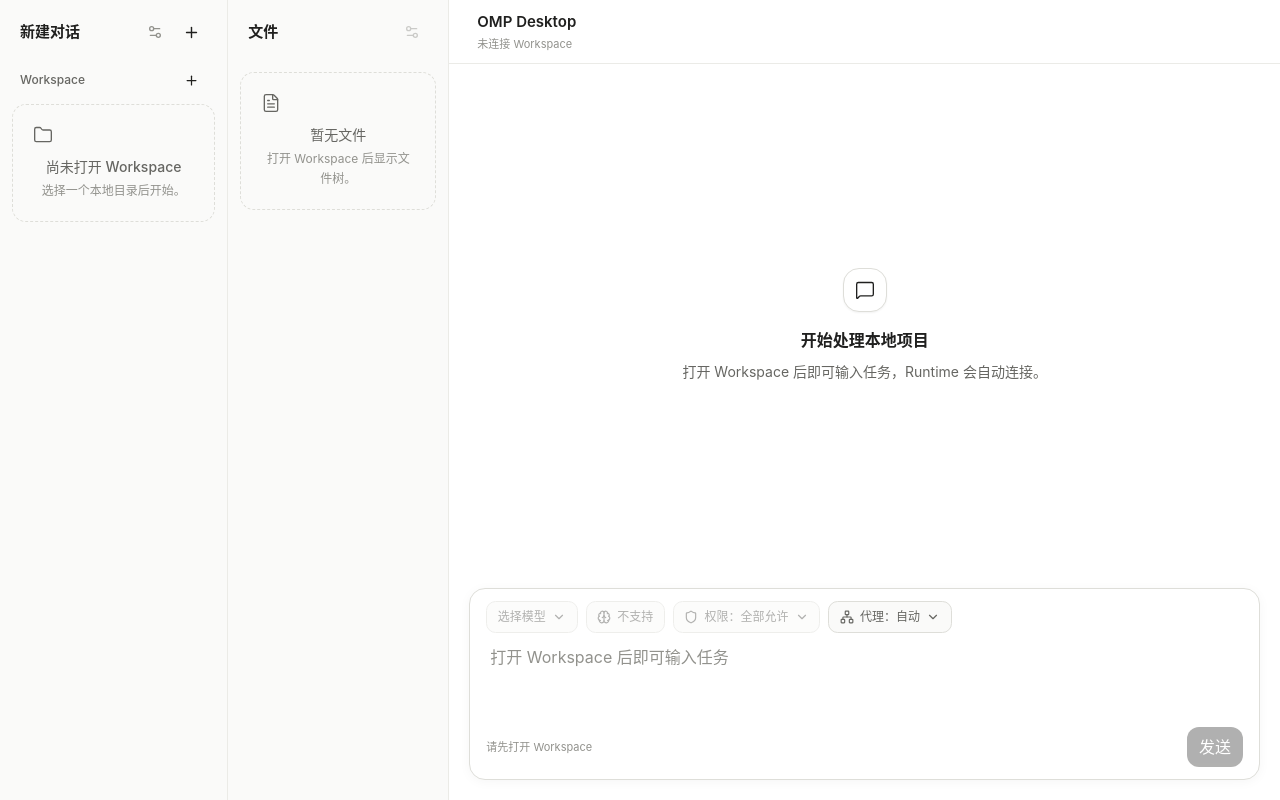
Test: App shell › Runtime 启动完成前先显示新 Workspace
This screenshot has width=1280, height=800.
Click the button named "打开 Workspace".
click(191, 80)  # box [175, 64, 207, 96]
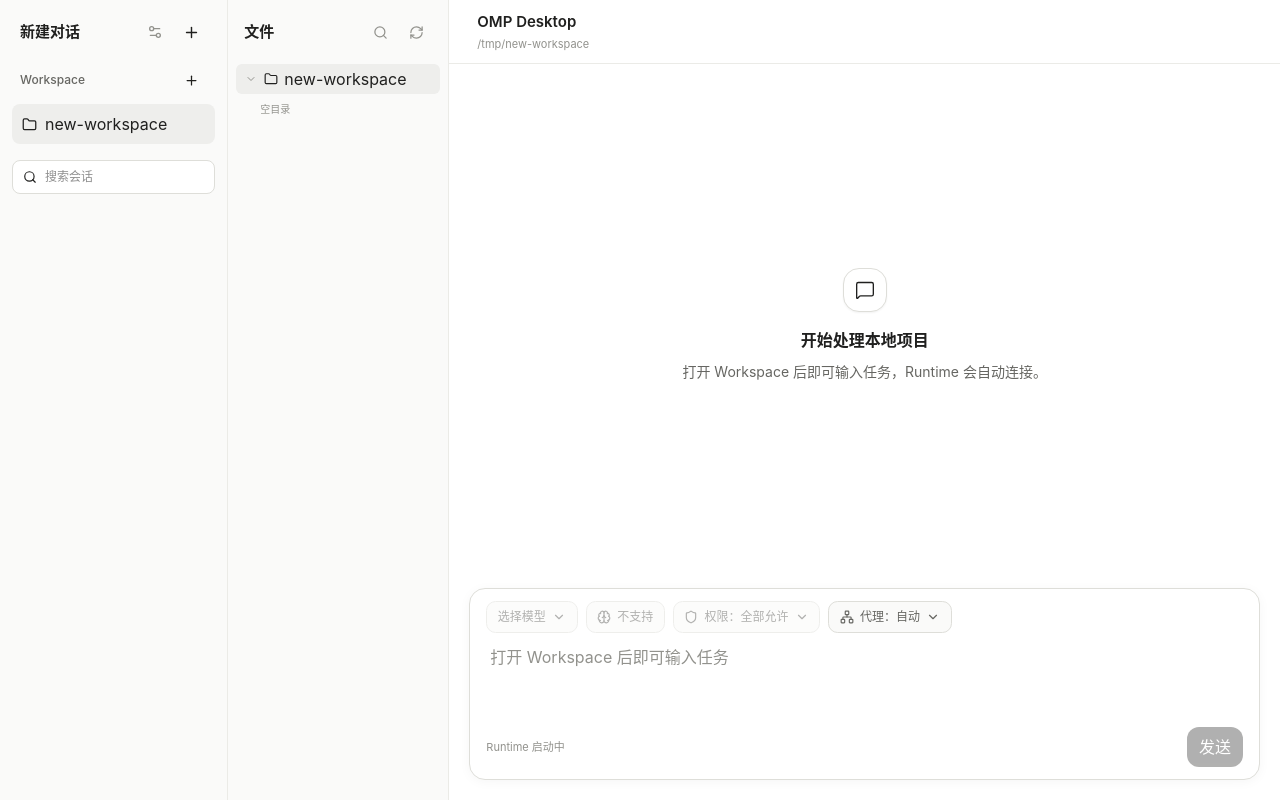
Now the text "new-workspace" below "新建对话" is shown, box [45, 114, 167, 134]
